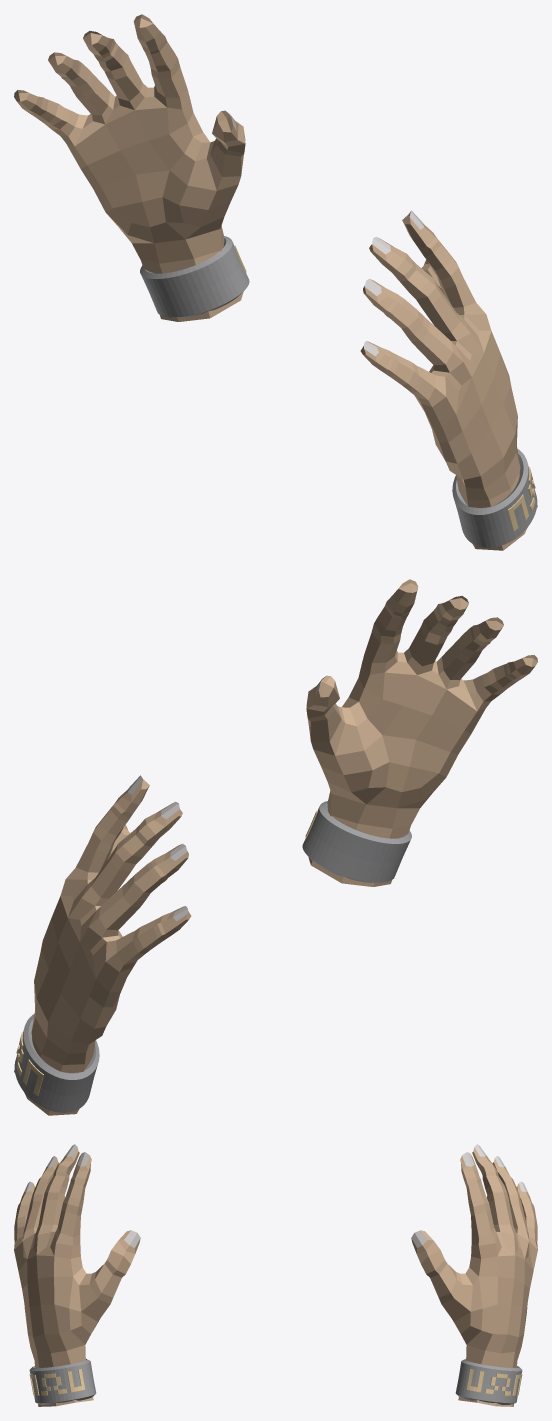
The model's file is sisifus_game_hands.fbx.
3 renders of one model, top to bottom at view 1: azimuth 30°, elevation 25°; view 2: azimuth 150°, elevation 25°; view 3: azimuth 270°, elevation 25°, orthographic. The views are drawn at different scales.
Visible parts, largest first — view 1: Torus; view 2: Torus; view 3: Torus.
Part boxes in pixels (x1,y1,x2,y2): Torus: (14,14,537,550); Torus: (14,579,537,1115); Torus: (14,1144,537,1406).
Bounding box in the file's own units: 191 × 303 × 611.
